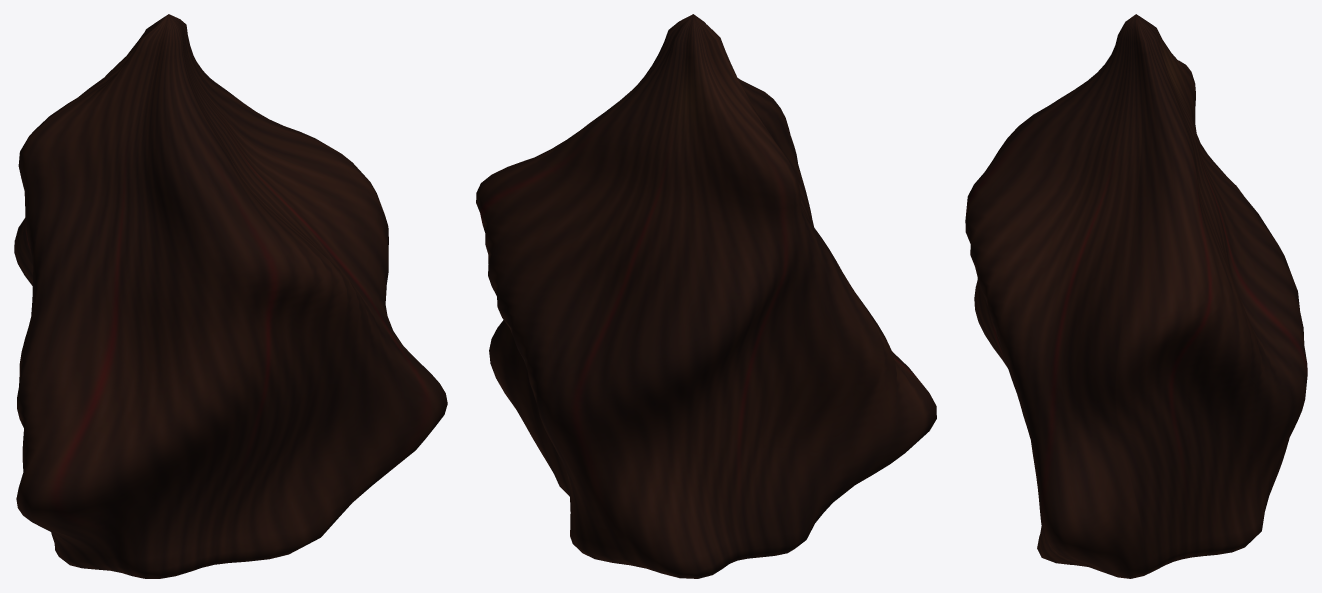
File: HEARTROOT_CORE_LODs.fbx
The picture shows the model from 3 angles, left to right: view 1: azimuth 30°, elevation 25°; view 2: azimuth 150°, elevation 25°; view 3: azimuth 270°, elevation 25°; orthographic projection. The views are drawn at different scales.
Visible parts, largest first — view 1: HEARTROOT_CORE_LOD0; view 2: HEARTROOT_CORE_LOD0; view 3: HEARTROOT_CORE_LOD0.
Boxes of the visible parts, bbox=[...] form: HEARTROOT_CORE_LOD0: bbox=[14, 14, 447, 578]; HEARTROOT_CORE_LOD0: bbox=[476, 14, 936, 578]; HEARTROOT_CORE_LOD0: bbox=[965, 14, 1307, 578].
Size of what is drawn, in the model's own units: 0.48 by 0.58 by 0.34.
Materials: 3 (3 with a texture image).
